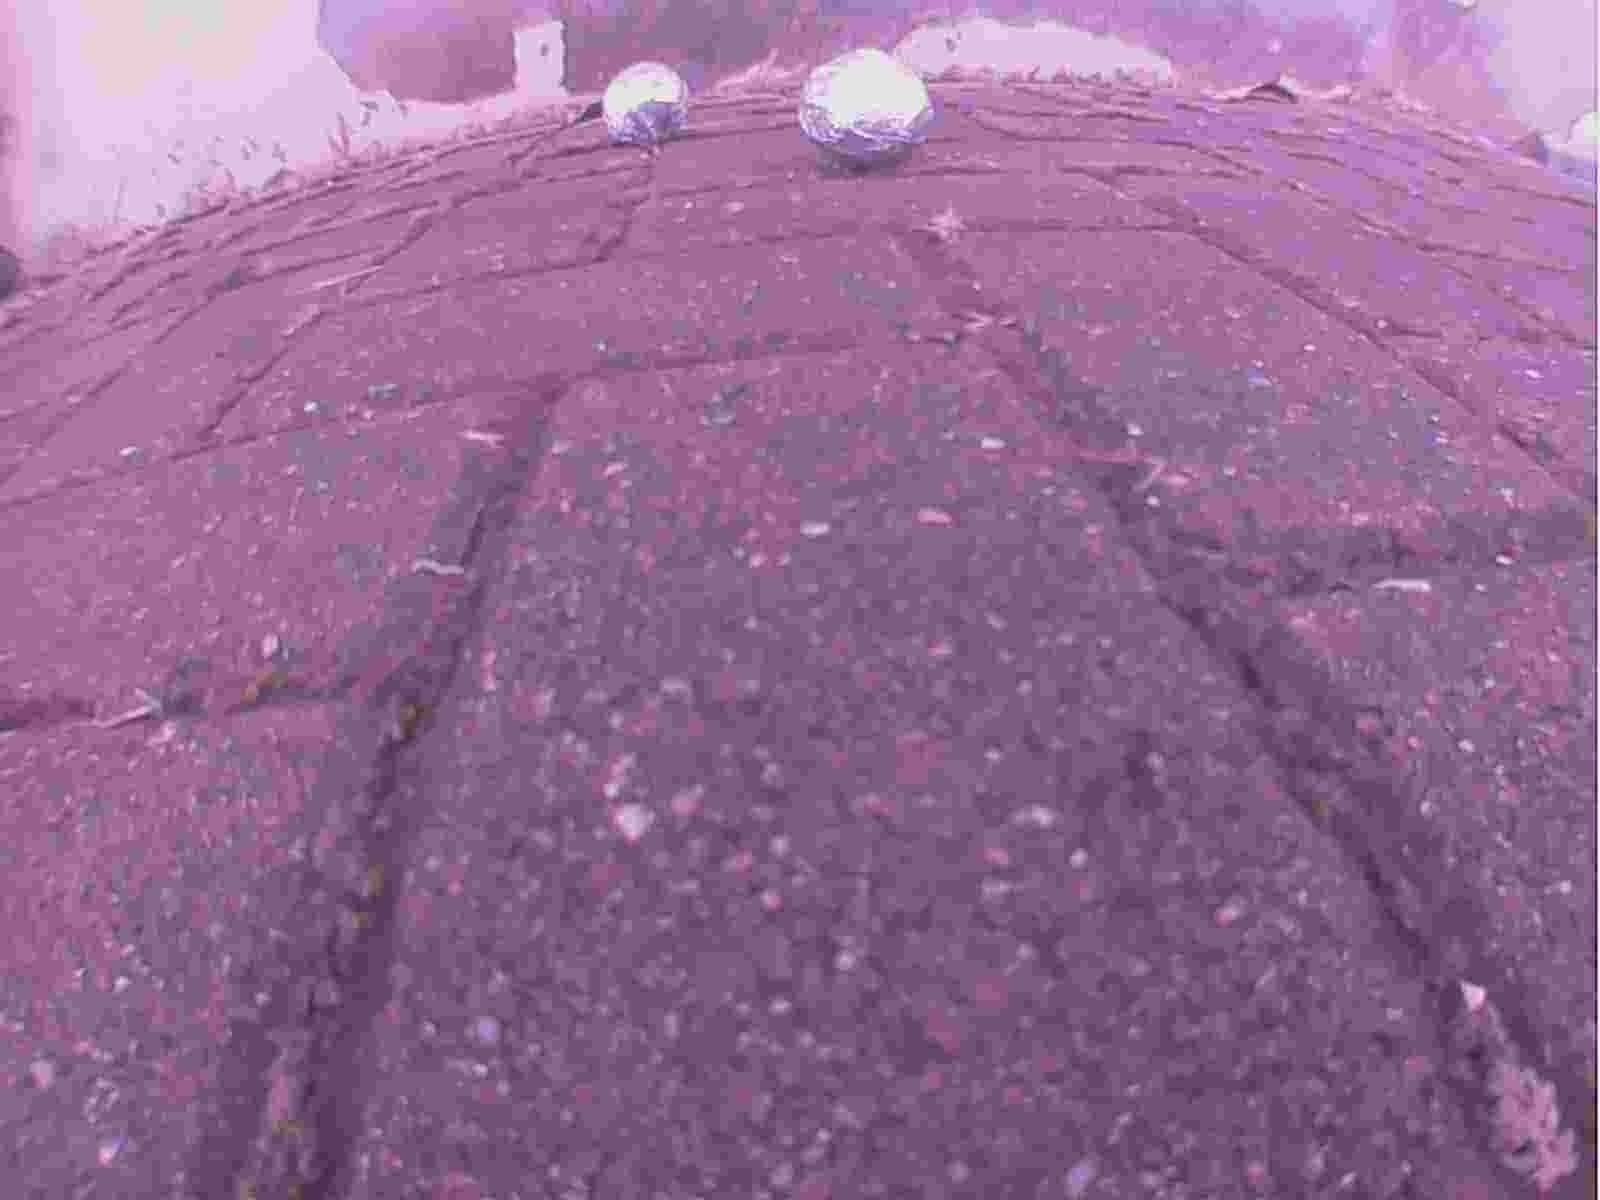bianca: (796, 45, 939, 178), (603, 55, 687, 145)
